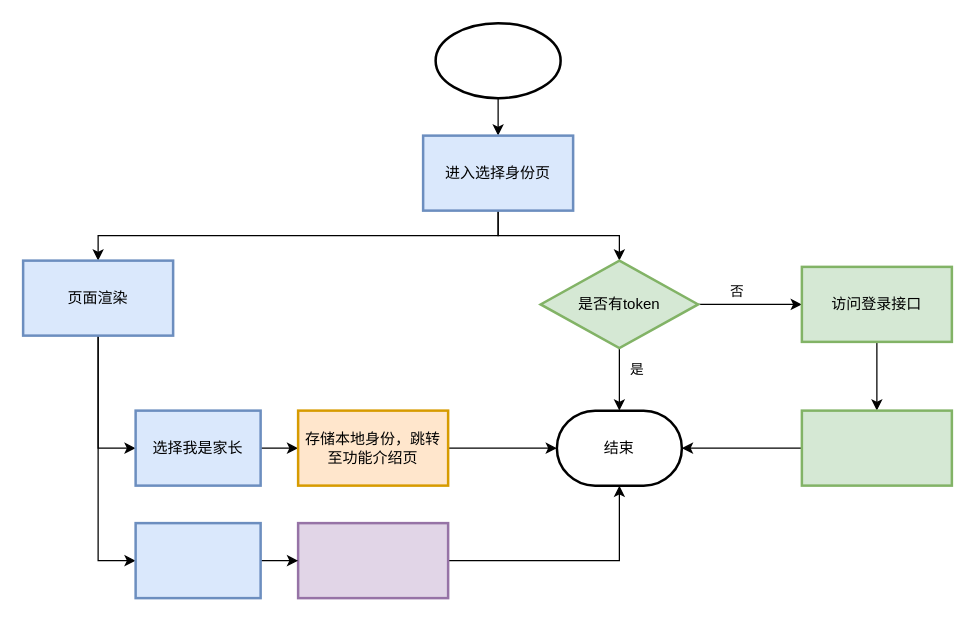
Some shapes in this 974 by 620 pixel diagram are drawn without their labels. The shapes that lost their labels are listed below. From the top down, each one's centre as x and y in pixels, then its label:
[497,60]: 开始
[876,447]: 本地存储token、身份信息
[197,560]: 选择我是老师
[372,560]: 存储本地身份，跳转至家长版练习tab
